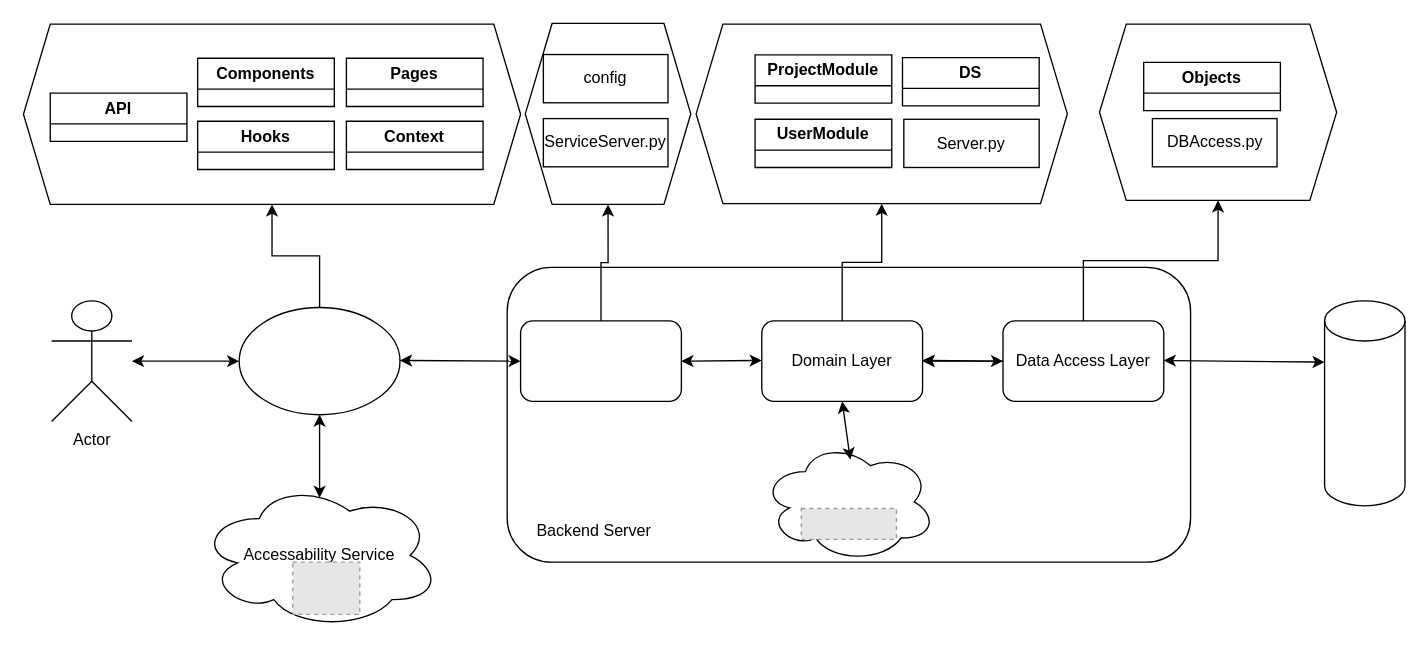
This 1428x653 diagram has some shape labels left out. Grey dashed boxes stand in for pictures. Here are the shapes that lost their labels. From the top down, the box of each, then its label:
(238, 306, 400, 415): Front Server
(519, 320, 681, 401): Service Layer
(1323, 299, 1405, 506): DB
(760, 440, 936, 562): Gmail Sender
